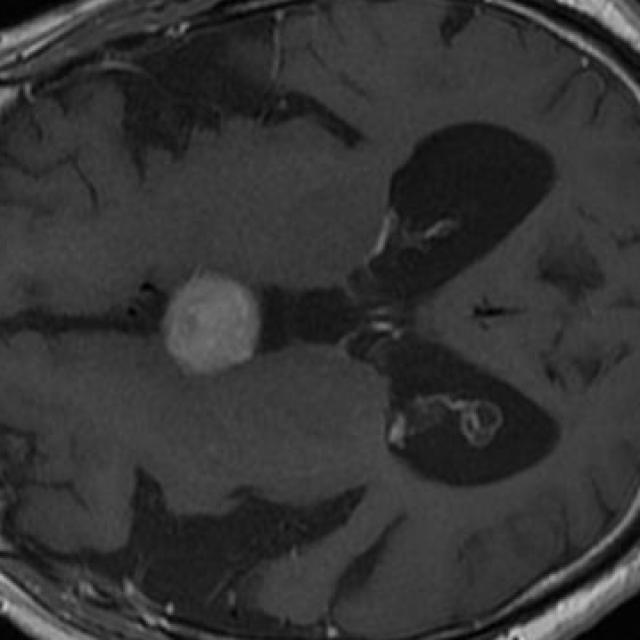pituitary: (160, 273, 260, 376)
